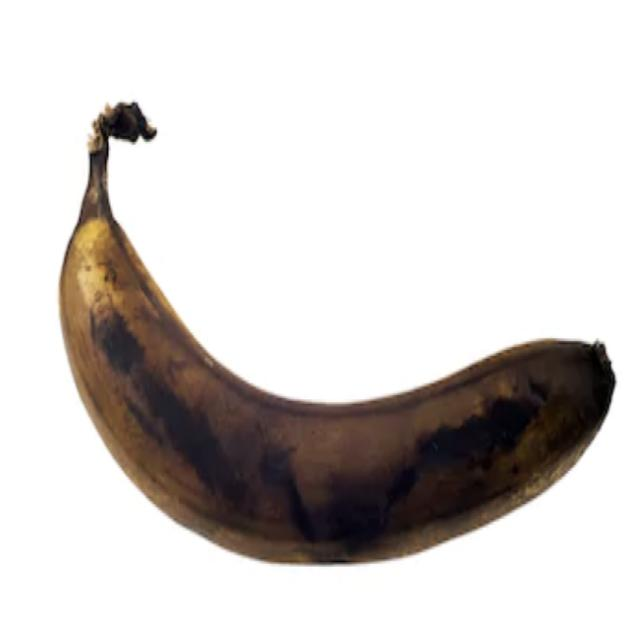Rotten: (36, 84, 626, 578)
